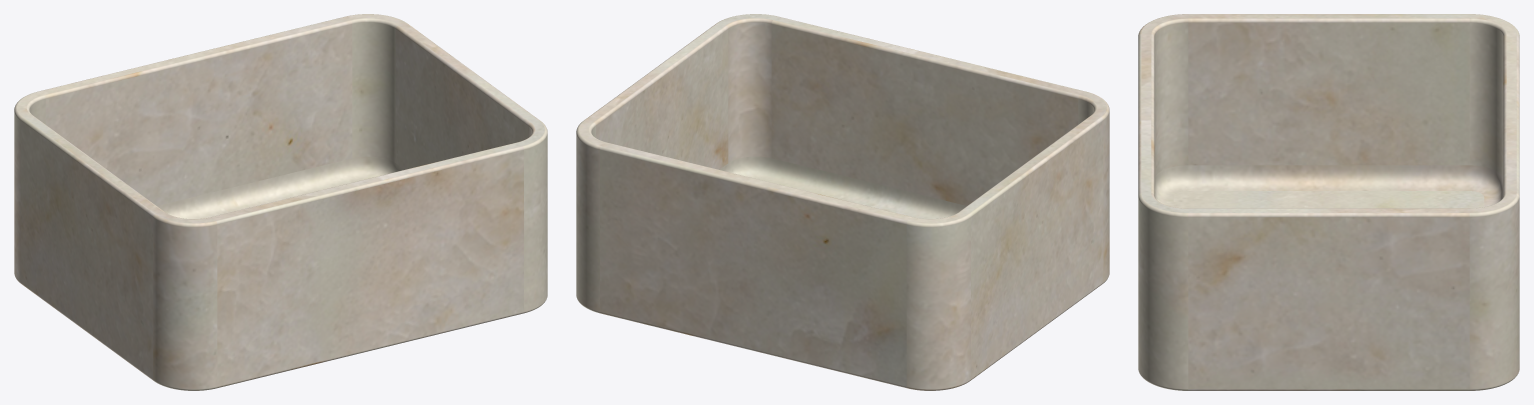
The model's file is sink.fbx.
3 renders of one model, left to right at view 1: azimuth 30°, elevation 25°; view 2: azimuth 150°, elevation 25°; view 3: azimuth 270°, elevation 25°, orthographic. The views are drawn at different scales.
Visible parts, largest first — view 1: Vintage Sink & taps; view 2: Vintage Sink & taps; view 3: Vintage Sink & taps.
Part boxes in pixels (x1,y1,x2,y2): Vintage Sink & taps: (14,14,547,390); Vintage Sink & taps: (576,14,1109,390); Vintage Sink & taps: (1138,14,1519,390).
Size of the model in its own units: 7424 by 3057 by 5945.
